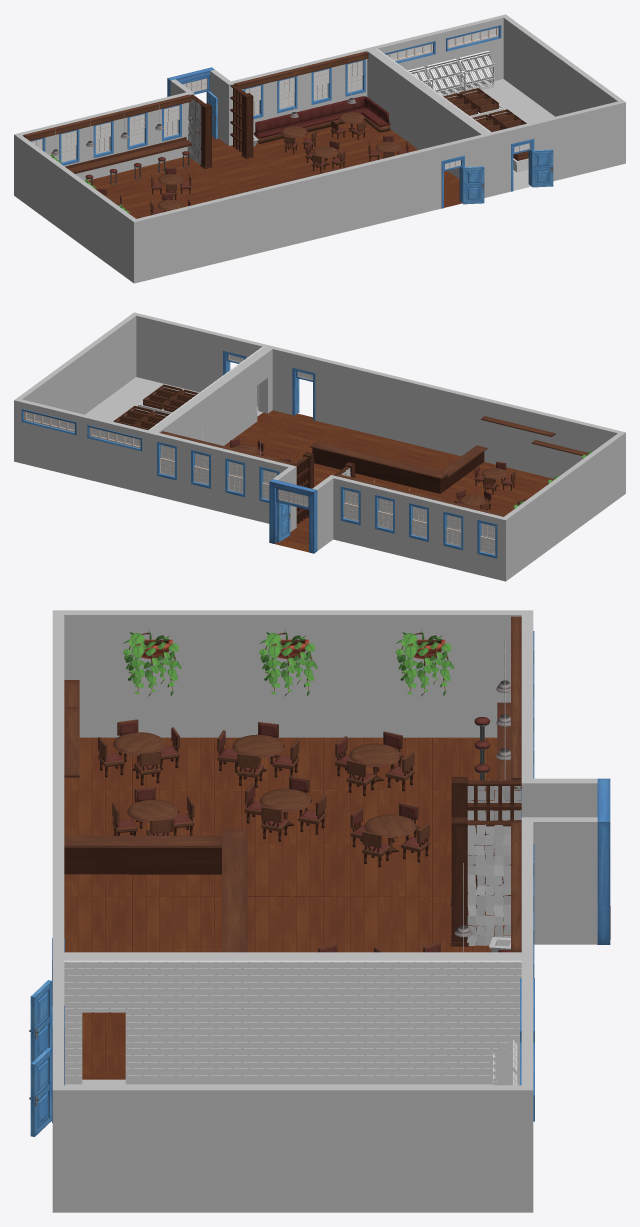
The model's file is model_cafeteriaArmazen_02.fbx.
3 renders of one model, top to bottom at view 1: azimuth 30°, elevation 25°; view 2: azimuth 150°, elevation 25°; view 3: azimuth 270°, elevation 25°, orthographic. The views are drawn at different scales.
Visible parts, largest first — view 1: Estrutura_Cafeteria, Estrutura_Armazen, Janelas, Sofa, Vigas, Armazenamento, Bancadas, Pilares, Basculante, Porta_01, Porta_armazen, Bancada_Janela (+8 smaller); view 2: Estrutura_Cafeteria, Estrutura_Armazen, Janelas, Bancada, Porta_Entrada, Bancadas, Basculante, Vigas, Cadeira_Mesa.005, Prateleiras, Porta_01, Palet (+3 smaller); view 3: Estrutura_Cafeteria, Estrutura_Armazen, Parede_Tijolos, Bancada, Vaso_Parede, Cerca_Viva, Vigas, Cadeira_Mesa.003, Cadeira_Mesa.002, Cadeira_Mesa.004, Cadeira_Mesa, Cadeira_Mesa.001 (+9 smaller).
Part boxes in pixels (bbox=[...]): Estrutura_Cafeteria: bbox=[14, 47, 489, 283]; Estrutura_Armazen: bbox=[370, 14, 625, 196]; Janelas: bbox=[30, 59, 365, 165]; Sofa: bbox=[254, 96, 390, 143]; Vigas: bbox=[23, 51, 368, 140]; Armazenamento: bbox=[407, 50, 494, 98]; Bancadas: bbox=[443, 88, 528, 172]; Pilares: bbox=[200, 93, 253, 168]; Basculante: bbox=[384, 25, 501, 63]; Porta_01: bbox=[441, 155, 484, 208]; Porta_armazen: bbox=[511, 138, 553, 191]; Bancada_Janela: bbox=[65, 137, 191, 173]; Estrutura_Cafeteria: bbox=[150, 345, 625, 581]; Estrutura_Armazen: bbox=[14, 312, 269, 494]; Janelas: bbox=[157, 441, 497, 558]; Bancada: bbox=[310, 442, 487, 493]; Porta_Entrada: bbox=[269, 479, 317, 553]; Bancadas: bbox=[113, 384, 198, 429]; Basculante: bbox=[21, 409, 142, 451]; Vigas: bbox=[160, 431, 504, 516]; Cadeira_Mesa.005: bbox=[474, 461, 515, 494]; Prateleiras: bbox=[481, 416, 587, 455]; Porta_01: bbox=[292, 367, 315, 420]; Palet: bbox=[292, 456, 350, 525]; Estrutura_Cafeteria: bbox=[52, 610, 610, 1079]; Estrutura_Armazen: bbox=[52, 957, 533, 1212]; Parede_Tijolos: bbox=[64, 960, 521, 1084]; Bancada: bbox=[64, 829, 247, 952]; Vaso_Parede: bbox=[123, 628, 454, 696]; Cerca_Viva: bbox=[467, 780, 521, 945]; Vigas: bbox=[511, 616, 521, 952]; Cadeira_Mesa.003: bbox=[350, 802, 430, 867]; Cadeira_Mesa.002: bbox=[335, 731, 414, 796]; Cadeira_Mesa.004: bbox=[244, 776, 326, 841]; Cadeira_Mesa: bbox=[98, 719, 179, 785]; Cadeira_Mesa.001: bbox=[217, 722, 299, 787].
Size of the model in its own units: 57.76 by 7.21 by 29.57.
